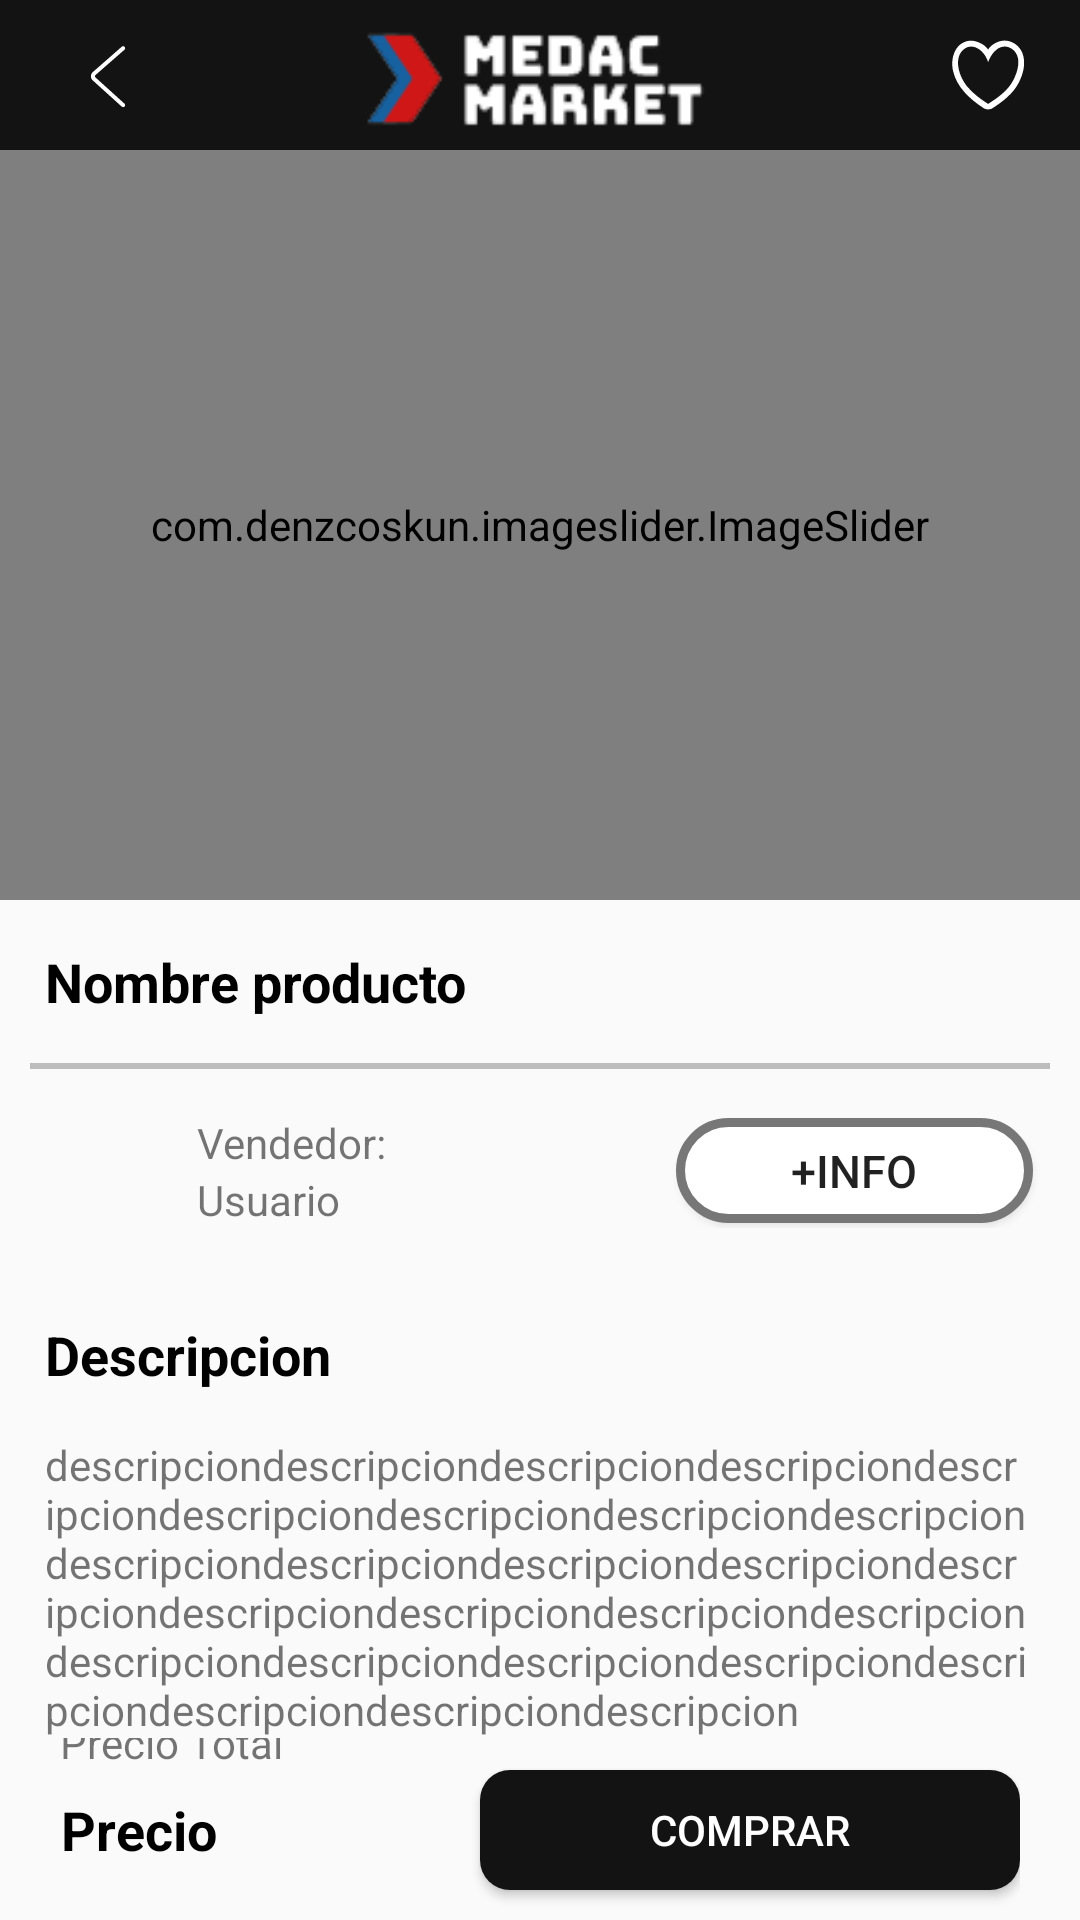

Named icons in this screenshot (1080px×1920px) and their bounding boxes, bbox(x1, y1, x2, y2):
back: bbox(91, 46, 125, 107)
